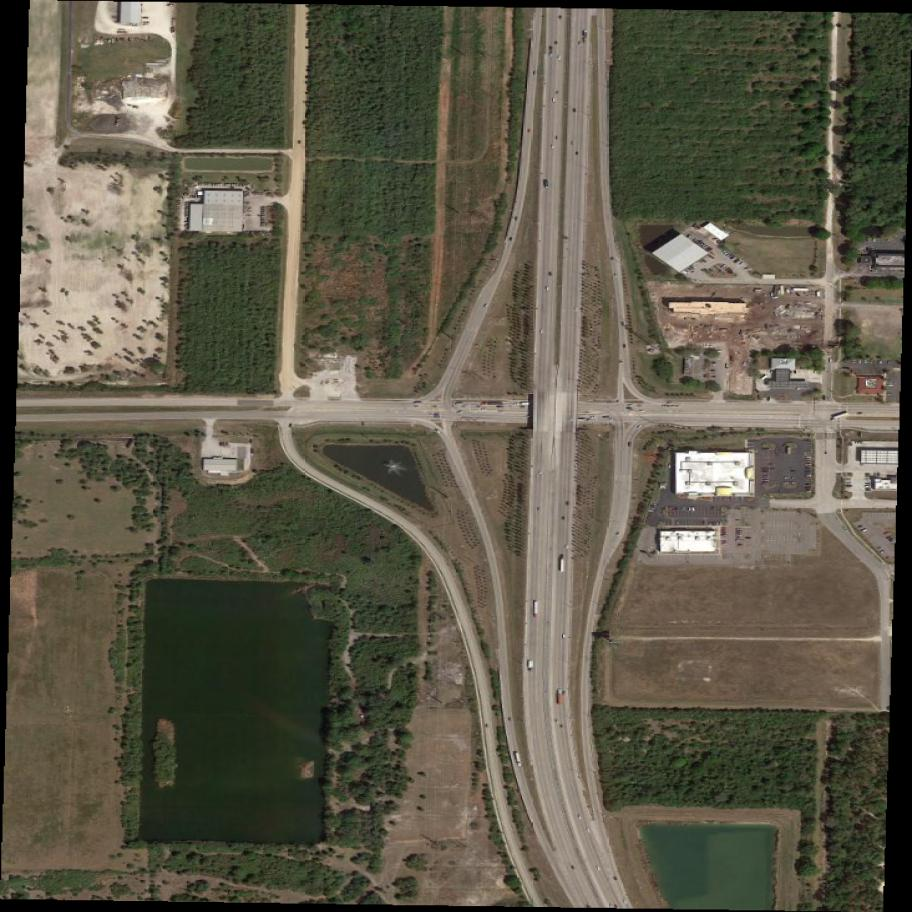large-vehicle: (533, 602, 539, 618), (516, 753, 522, 768), (558, 689, 563, 705), (561, 557, 566, 572), (482, 403, 505, 406), (528, 661, 533, 672)
